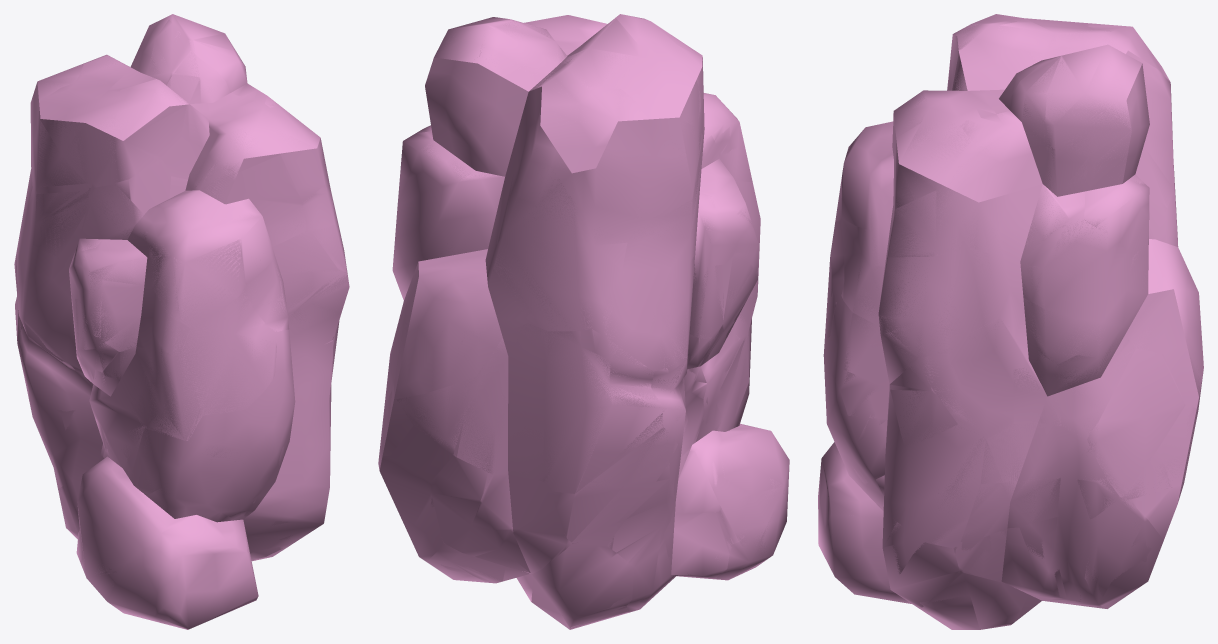
Rendered from rock_3_cell.fbx.
The picture shows the model from 3 angles, left to right: view 1: azimuth 30°, elevation 25°; view 2: azimuth 150°, elevation 25°; view 3: azimuth 270°, elevation 25°; orthographic projection. The views are drawn at different scales.
Parts seen in each view (by area): view 1: rock_3, rock_3_cell.013, rock_3_cell.099, rock_3_cell.055, rock_3_cell.069, rock_3_cell.006, rock_3_cell.057, rock_3_cell.076, rock_3_cell.071, rock_3_cell.032, rock_3_cell.009, rock_3_cell.007 (+18 smaller); view 2: rock_3, rock_3_cell.018, rock_3_cell.054, rock_3_cell.073, rock_3_cell.021, rock_3_cell.091, rock_3_cell.024, rock_3_cell.011, rock_3_cell.074, rock_3_cell.031, rock_3_cell.009, rock_3_cell.092 (+23 smaller); view 3: rock_3, rock_3_cell.037, rock_3_cell.033, rock_3_cell.083, rock_3_cell.003, rock_3_cell.069, rock_3_cell.007, rock_3_cell.066, rock_3_cell.004, rock_3_cell.036, rock_3_cell.058, rock_3_cell.060 (+24 smaller).
Part boxes in pixels (bbox=[...]): rock_3: bbox=[16, 14, 349, 629]; rock_3_cell.013: bbox=[183, 292, 276, 415]; rock_3_cell.099: bbox=[220, 155, 307, 284]; rock_3_cell.055: bbox=[114, 81, 186, 182]; rock_3_cell.069: bbox=[244, 230, 338, 331]; rock_3_cell.006: bbox=[174, 240, 245, 327]; rock_3_cell.057: bbox=[102, 346, 202, 440]; rock_3_cell.076: bbox=[88, 184, 149, 285]; rock_3_cell.071: bbox=[75, 90, 120, 188]; rock_3_cell.032: bbox=[33, 191, 88, 256]; rock_3_cell.009: bbox=[81, 20, 190, 90]; rock_3_cell.007: bbox=[276, 128, 324, 202]; rock_3: bbox=[382, 14, 789, 629]; rock_3_cell.018: bbox=[543, 329, 662, 493]; rock_3_cell.054: bbox=[454, 323, 548, 480]; rock_3_cell.073: bbox=[532, 543, 634, 627]; rock_3_cell.021: bbox=[550, 427, 677, 545]; rock_3_cell.091: bbox=[626, 511, 732, 612]; rock_3_cell.024: bbox=[471, 474, 565, 536]; rock_3_cell.011: bbox=[494, 173, 627, 330]; rock_3_cell.074: bbox=[443, 526, 572, 573]; rock_3_cell.031: bbox=[430, 455, 491, 542]; rock_3_cell.009: bbox=[493, 18, 638, 94]; rock_3_cell.092: bbox=[378, 440, 443, 542]; rock_3: bbox=[818, 14, 1203, 629]; rock_3_cell.037: bbox=[1086, 348, 1185, 497]; rock_3_cell.033: bbox=[1045, 44, 1130, 156]; rock_3_cell.083: bbox=[962, 478, 1116, 538]; rock_3_cell.003: bbox=[875, 475, 959, 607]; rock_3_cell.069: bbox=[839, 218, 889, 323]; rock_3_cell.007: bbox=[894, 119, 970, 210]; rock_3_cell.066: bbox=[890, 363, 957, 447]; rock_3_cell.004: bbox=[927, 571, 1031, 629]; rock_3_cell.036: bbox=[888, 188, 969, 257]; rock_3_cell.058: bbox=[960, 56, 1060, 151]; rock_3_cell.060: bbox=[980, 423, 1102, 483].
Size of the model in its own units: 205 by 391 by 241.
